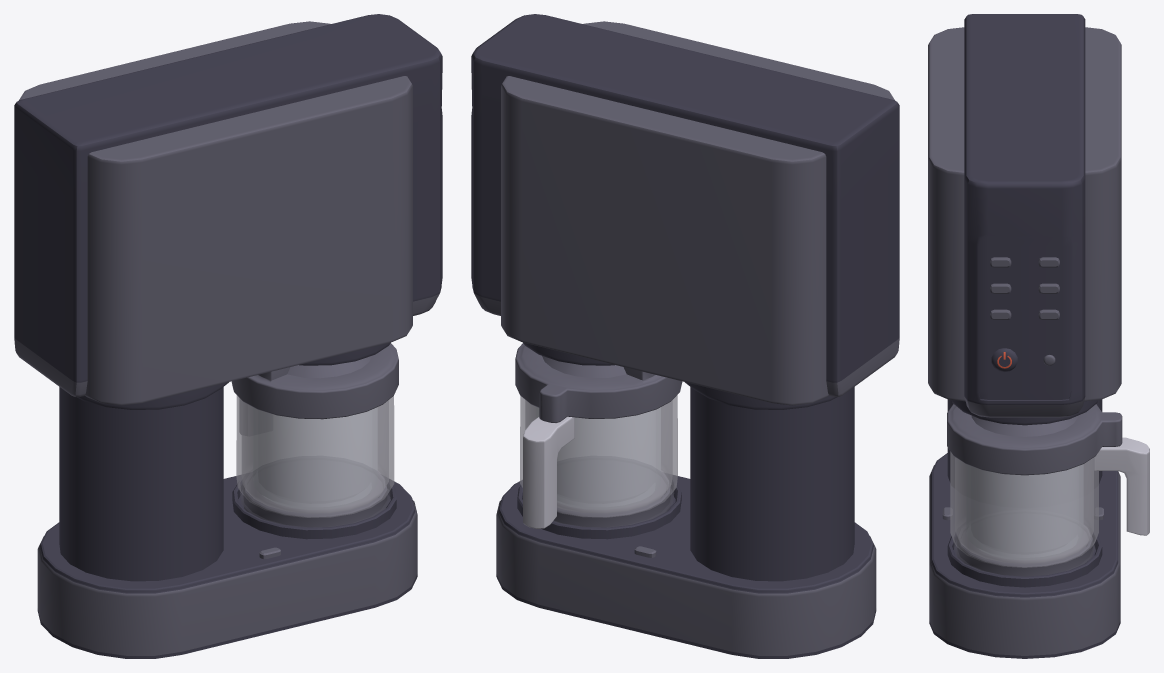
File: Ice_Cream_Maker_M1.fbx
3 renders of one model, left to right at view 1: azimuth 30°, elevation 25°; view 2: azimuth 150°, elevation 25°; view 3: azimuth 270°, elevation 25°, orthographic. The views are drawn at different scales.
Visible parts, largest first — view 1: Ice_Cream_Machine_01, Mixer_02, Bottle_02, Cap_01, Part_02; view 2: Ice_Cream_Machine_01, Mixer_02, Bottle_02, Cap_01, Part_02; view 3: Ice_Cream_Machine_01, Mixer_02, Bottle_02, Cap_01, Part_02.
Boxes of the visible parts, left/top/right/bottom form: Ice_Cream_Machine_01: left=14, top=14, right=442, bottom=658; Mixer_02: left=236, top=395, right=394, bottom=527; Bottle_02: left=253, top=408, right=376, bottom=509; Cap_01: left=231, top=343, right=398, bottom=419; Part_02: left=243, top=485, right=387, bottom=527; Ice_Cream_Machine_01: left=471, top=14, right=899, bottom=658; Mixer_02: left=520, top=395, right=677, bottom=528; Bottle_02: left=537, top=407, right=660, bottom=509; Cap_01: left=515, top=343, right=682, bottom=422; Part_02: left=554, top=485, right=670, bottom=527; Ice_Cream_Machine_01: left=928, top=14, right=1121, bottom=658; Mixer_02: left=950, top=437, right=1149, bottom=576; Bottle_02: left=967, top=465, right=1082, bottom=559; Cap_01: left=947, top=404, right=1122, bottom=475; Part_02: left=957, top=536, right=1092, bottom=576.
Bounding box in the file's own units: 4.54 × 5.93 × 2.47.
Materials: 2 (2 with a texture image).
